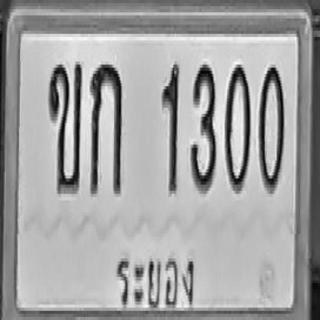A01: (90, 62, 122, 194)
A02: (48, 60, 82, 192)
N00: (224, 60, 250, 192), (258, 62, 284, 191)
N01: (161, 60, 179, 192)
N03: (190, 60, 216, 192)
P53: (111, 239, 199, 314)
